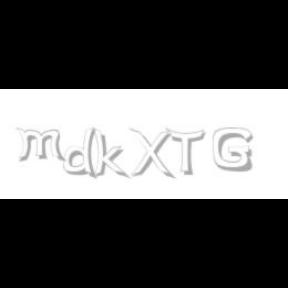G: (213, 128, 253, 172)
T: (165, 128, 205, 176)
X: (129, 128, 173, 180)
d: (64, 128, 100, 180)
k: (92, 128, 130, 180)
m: (15, 128, 67, 162)
